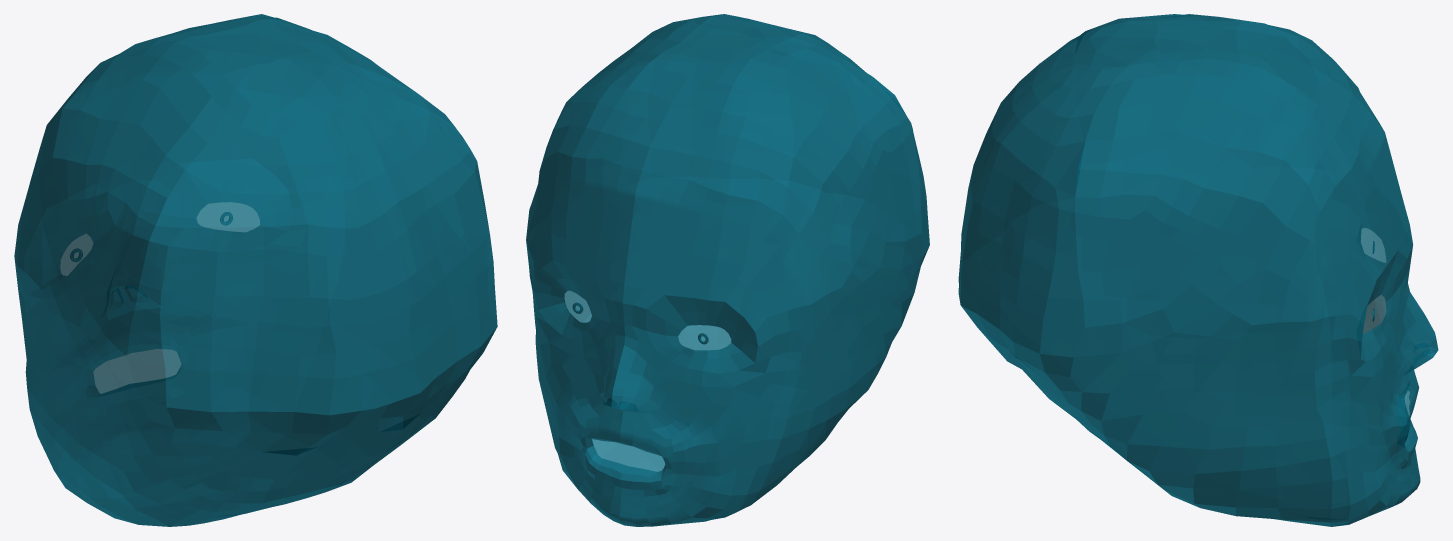
The picture shows the model from 3 angles, left to right: view 1: azimuth 30°, elevation 25°; view 2: azimuth 150°, elevation 25°; view 3: azimuth 270°, elevation 25°; orthographic projection. The views are drawn at different scales.
Visible parts, largest first — view 1: Head_Mesh; view 2: Head_Mesh; view 3: Head_Mesh.
Boxes of the visible parts, bbox=[...] form: Head_Mesh: bbox=[14, 14, 497, 526]; Head_Mesh: bbox=[526, 14, 929, 526]; Head_Mesh: bbox=[958, 14, 1438, 526].
Bounding box in the file's own units: 5.73 × 7.69 × 7.11.
